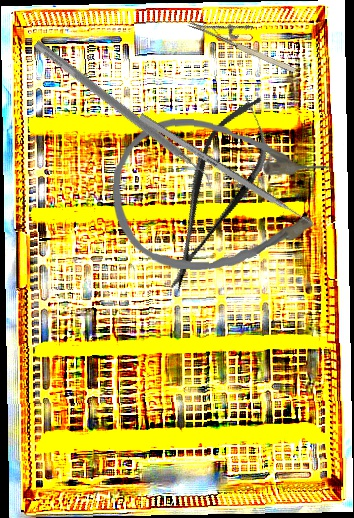Cannula: (109, 115, 332, 277)
Micro Scissor: (141, 83, 290, 303)
Needle Holder: (187, 0, 305, 77)
Pusher: (138, 113, 323, 233)
Spatula Surgical: (26, 39, 222, 193)
